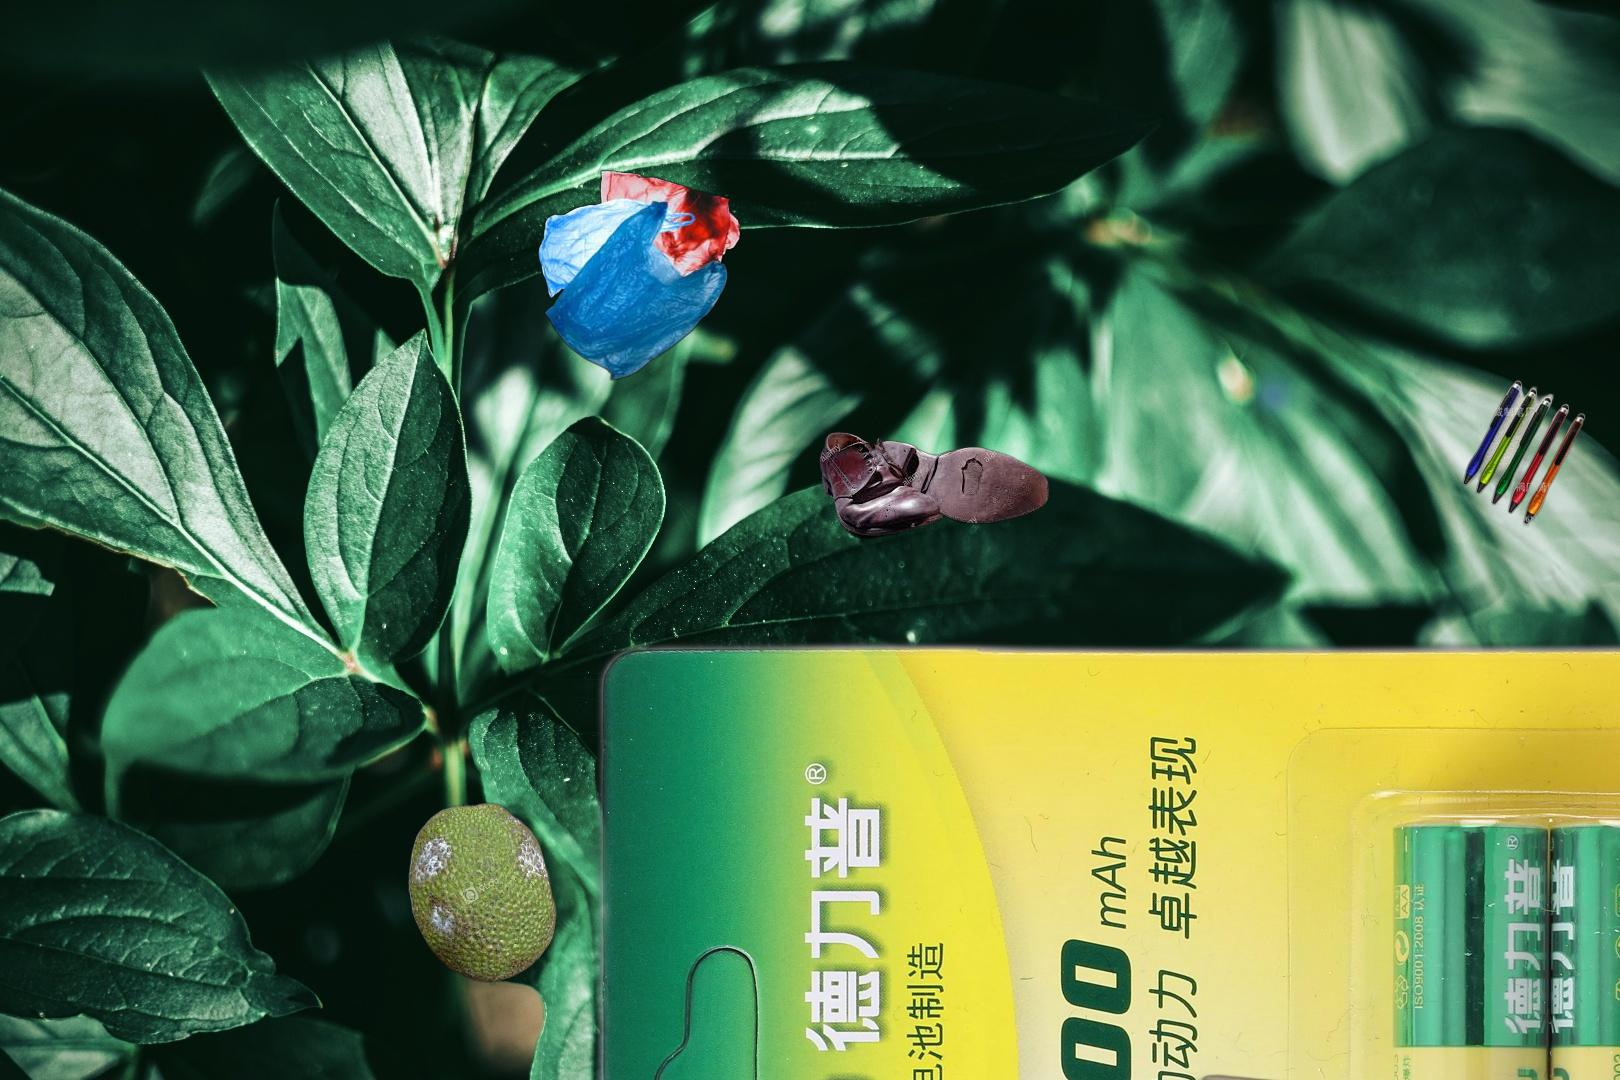battery: (574, 628, 1620, 1080)
biological: (404, 798, 560, 984)
penholder: (1460, 378, 1593, 528)
plastic-bag: (538, 168, 744, 382)
shoes: (815, 429, 1052, 542)
trashbox-cardboard: (967, 1072, 1405, 1080)
